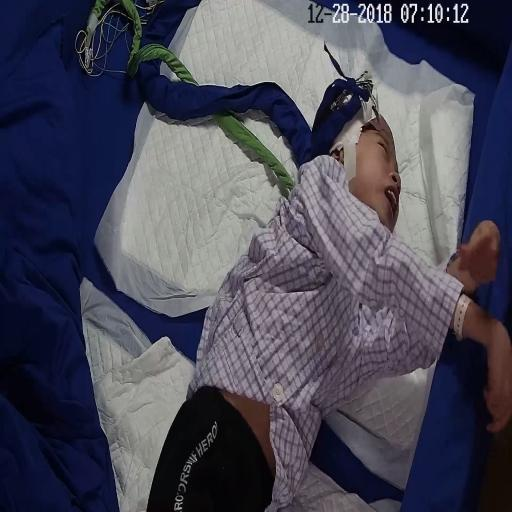Seizure: (332, 109, 407, 232)
